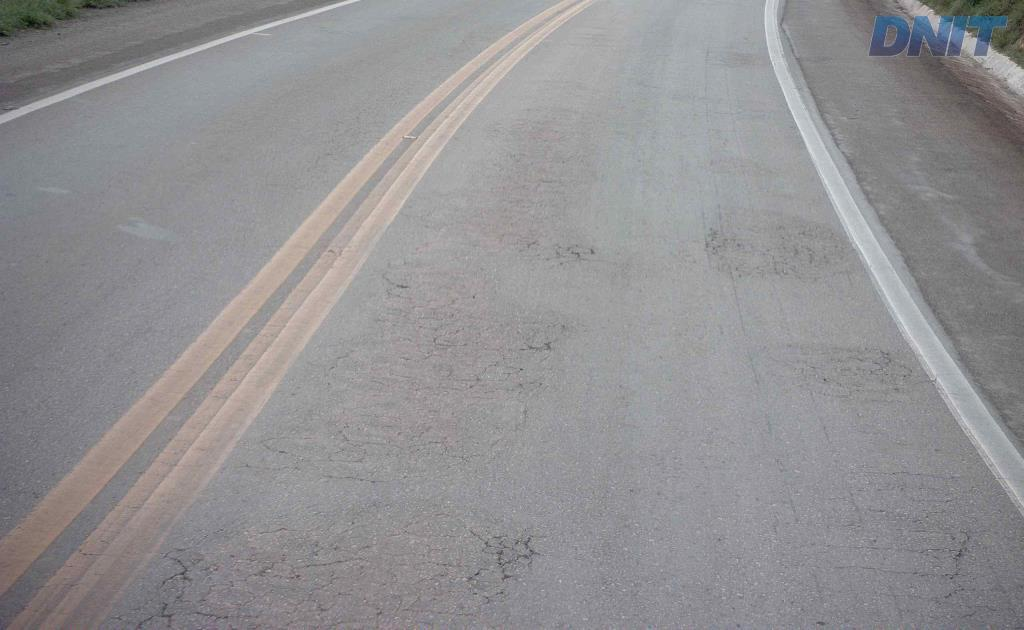crack: (483, 534, 537, 582)
